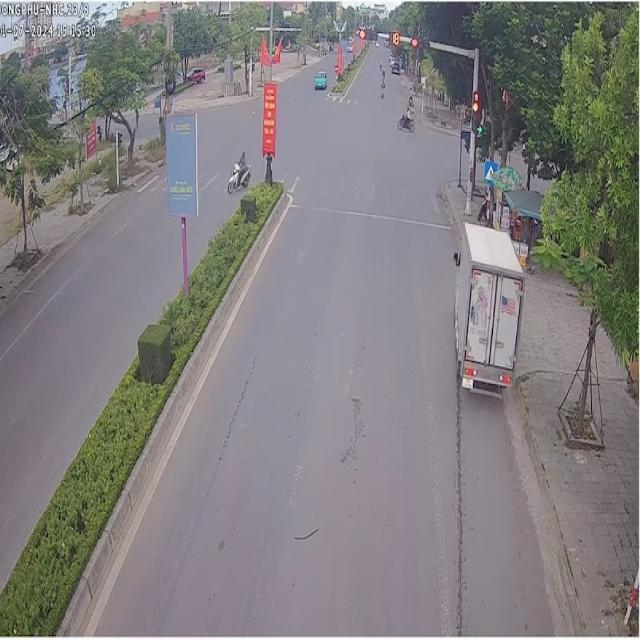car: (453, 220, 523, 394)
motobike: (228, 149, 249, 187)
red_light: (469, 88, 479, 131), (356, 24, 376, 39)
stop_line: (287, 202, 453, 228)
yellow_light: (382, 31, 387, 36)
